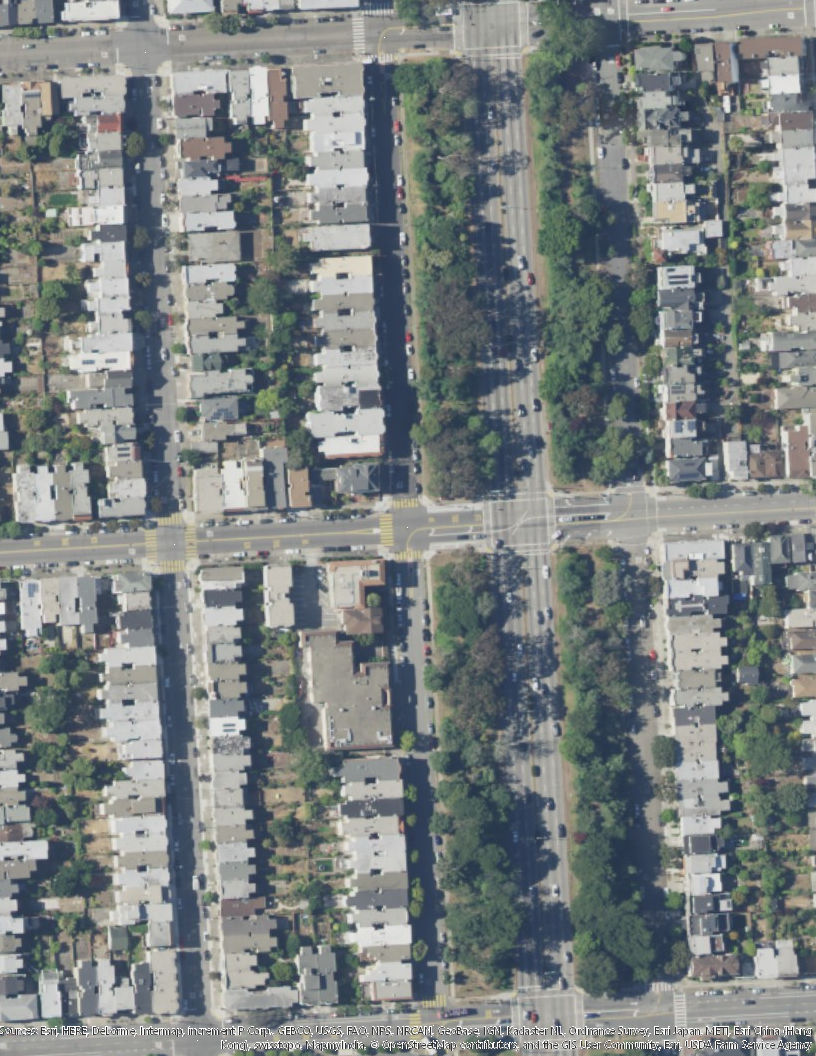zebracross: (351, 10, 366, 55), (379, 513, 394, 548), (183, 526, 198, 559), (674, 994, 688, 1029), (144, 528, 158, 562), (367, 1, 396, 17), (157, 508, 182, 525), (391, 494, 418, 509), (160, 560, 185, 573), (650, 981, 675, 994), (398, 549, 425, 561)
